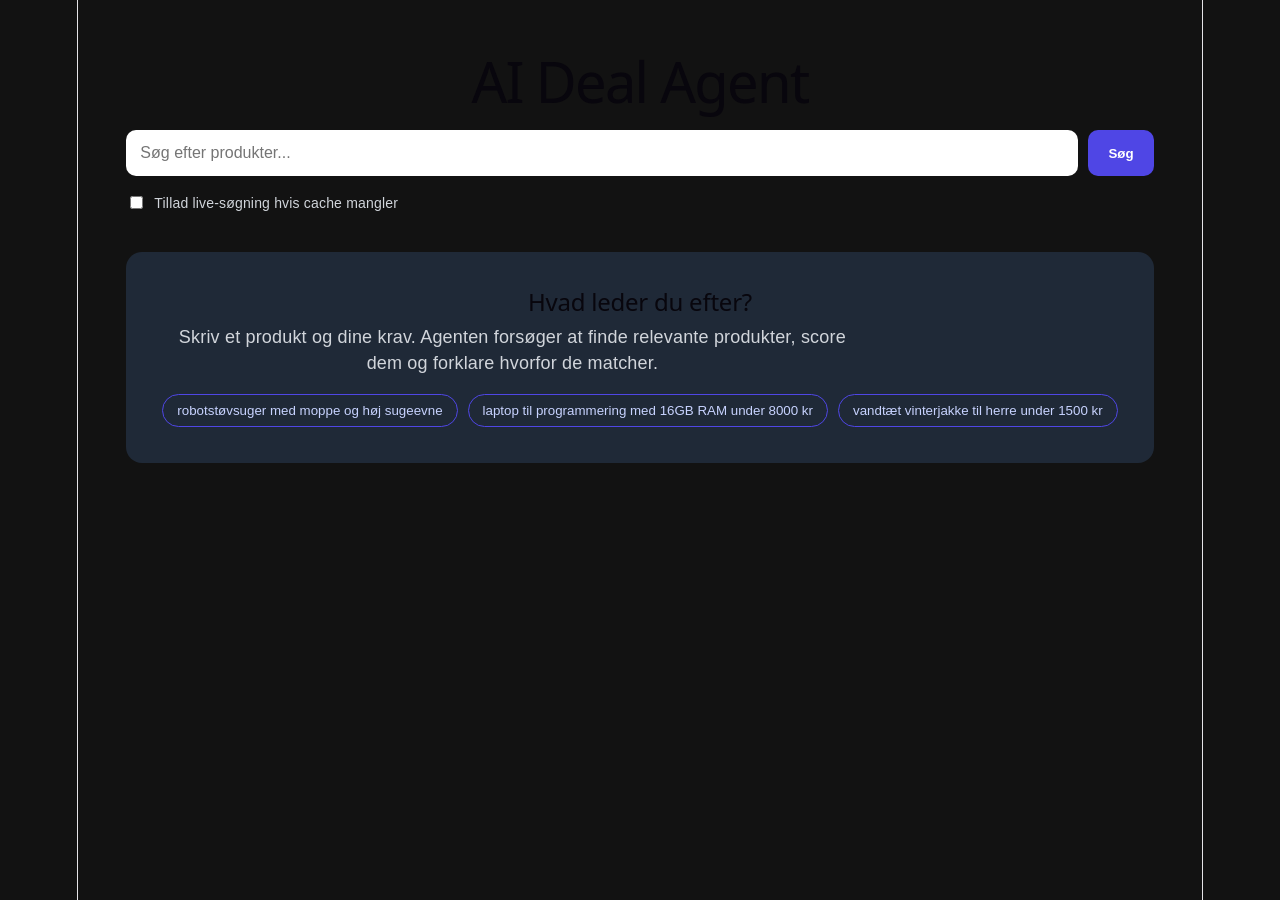
Test: App › shows the backend's detail message when the search fails
The width and height of the screenshot is (1280, 900).
Type "robotstøvsuger med moppe under 5000 kr" into the field with placeholder "Søg efter produkter..." at x=602, y=153, box [126, 130, 1078, 176]
Then press Enter
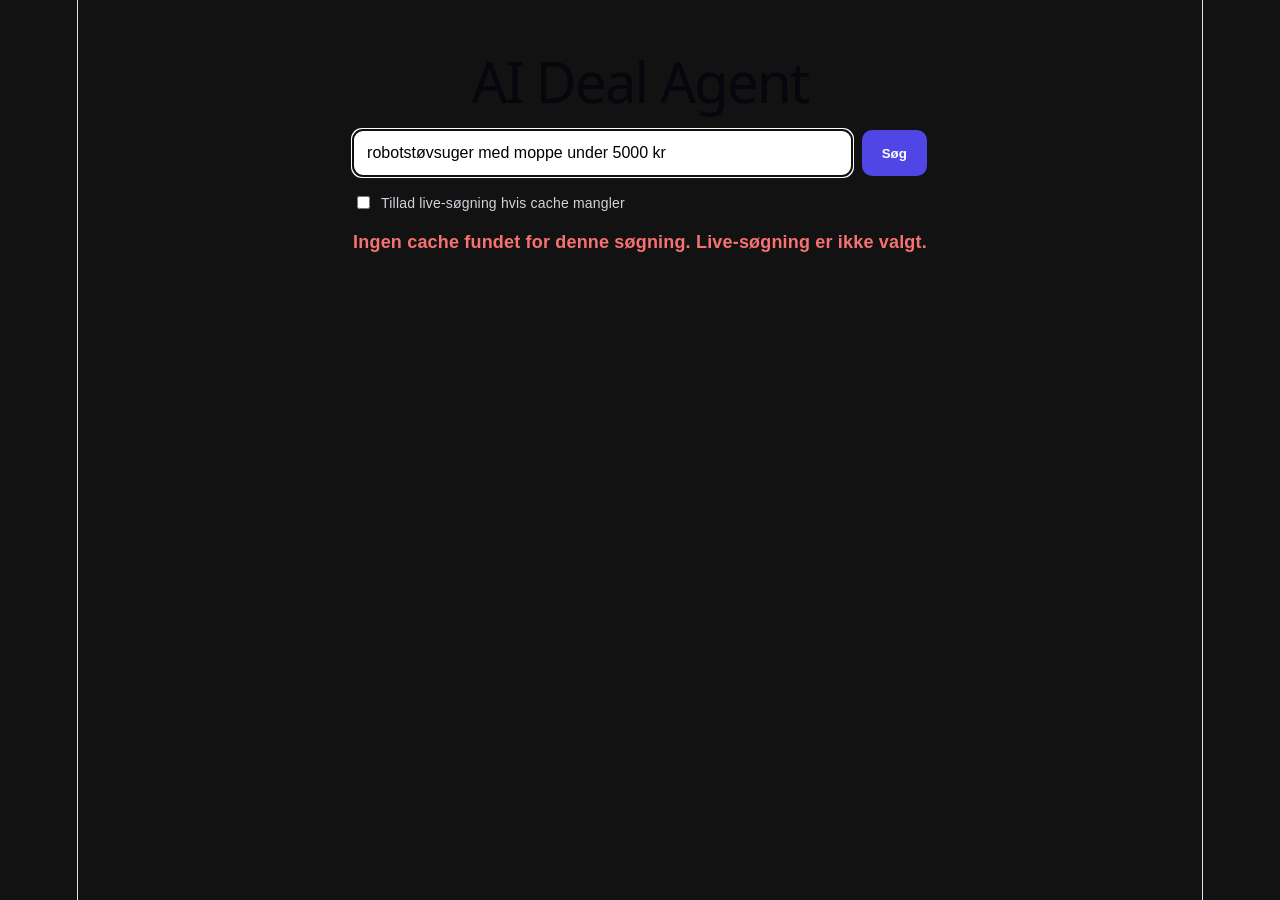
Expected: the text "Ingen cache fundet for denne søgning. Live-søgning er ikke valgt." is shown, [353, 229, 927, 255]
